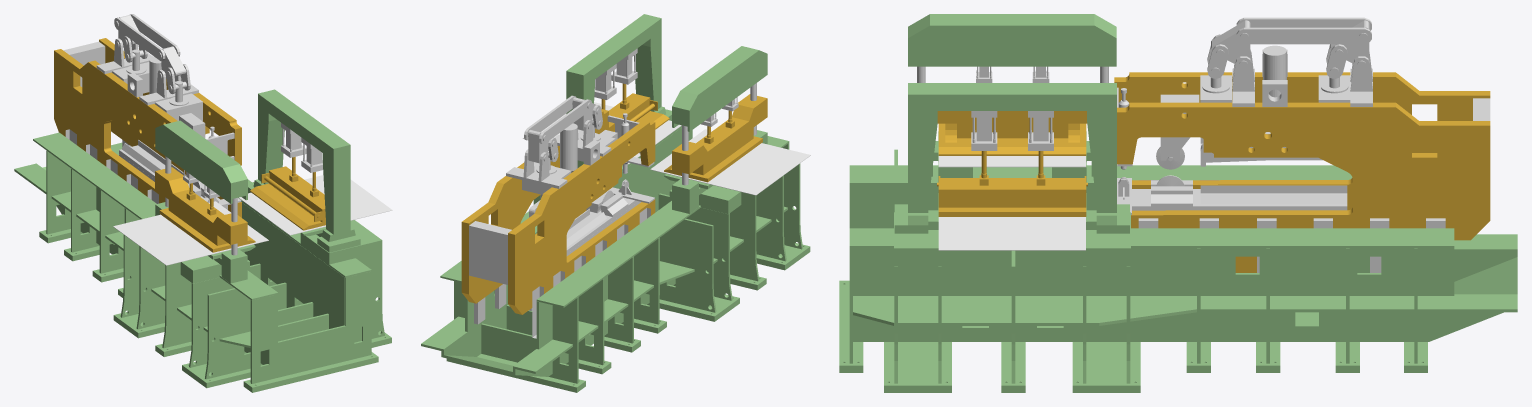
The model's file is Soldier3.glb.
The picture shows the model from 3 angles, left to right: view 1: azimuth 30°, elevation 25°; view 2: azimuth 150°, elevation 25°; view 3: azimuth 270°, elevation 25°; orthographic projection. The views are drawn at different scales.
Parts seen in each view (by area): view 1: 立方体.006, 立方体.002, 立方体, 立方体.009, 立方体.008, 立方体.010, 立方体.038, 立方体.036, 立方体.037, 立方体.035, 立方体.034, 柱体.013 (+14 smaller); view 2: 立方体.006, 立方体.002, 立方体, 立方体.009, 立方体.008, 立方体.010, 立方体.038, 立方体.037, 立方体.007, 立方体.012, 柱体.013, 立方体.020 (+13 smaller); view 3: 立方体, 立方体.002, 立方体.006, 立方体.008, 立方体.009, 立方体.038, 立方体.036, 立方体.035, 立方体.010, 立方体.034, 立方体.020, 立方体.016 (+16 smaller).
Boxes of the visible parts, x1,y1,x2,y2 form: 立方体.006: [39, 150, 391, 392]; 立方体.002: [54, 38, 241, 217]; 立方体: [14, 142, 344, 364]; 立方体.009: [248, 89, 360, 252]; 立方体.008: [33, 132, 371, 300]; 立方体.010: [155, 167, 255, 252]; 立方体.038: [155, 120, 247, 203]; 立方体.036: [250, 157, 325, 230]; 立方体.037: [113, 201, 268, 265]; 立方体.035: [238, 175, 392, 235]; 立方体.034: [243, 201, 382, 264]; 柱体.013: [96, 38, 198, 105]; 立方体.006: [446, 130, 810, 392]; 立方体.002: [461, 109, 655, 314]; 立方体: [421, 127, 787, 376]; 立方体.009: [566, 14, 671, 167]; 立方体.008: [440, 126, 789, 307]; 立方体.010: [664, 94, 767, 182]; 立方体.038: [672, 46, 767, 131]; 立方体.037: [650, 129, 810, 195]; 立方体.007: [469, 221, 511, 284]; 立方体.012: [474, 208, 650, 338]; 柱体.013: [506, 120, 611, 188]; 立方体.020: [524, 95, 591, 144]; 立方体: [853, 185, 1517, 341]; 立方体.002: [1114, 72, 1490, 272]; 立方体.006: [839, 149, 1427, 392]; 立方体.008: [849, 165, 1454, 248]; 立方体.009: [894, 83, 1129, 233]; 立方体.038: [908, 14, 1116, 66]; 立方体.036: [937, 151, 1087, 216]; 立方体.035: [938, 217, 1085, 250]; 立方体.010: [937, 111, 1087, 155]; 立方体.034: [894, 212, 1130, 266]; 立方体.020: [1236, 17, 1371, 44]; 立方体.016: [1200, 185, 1347, 204].
Size of the model in its own units: 17.91 by 16.81 by 33.67.
